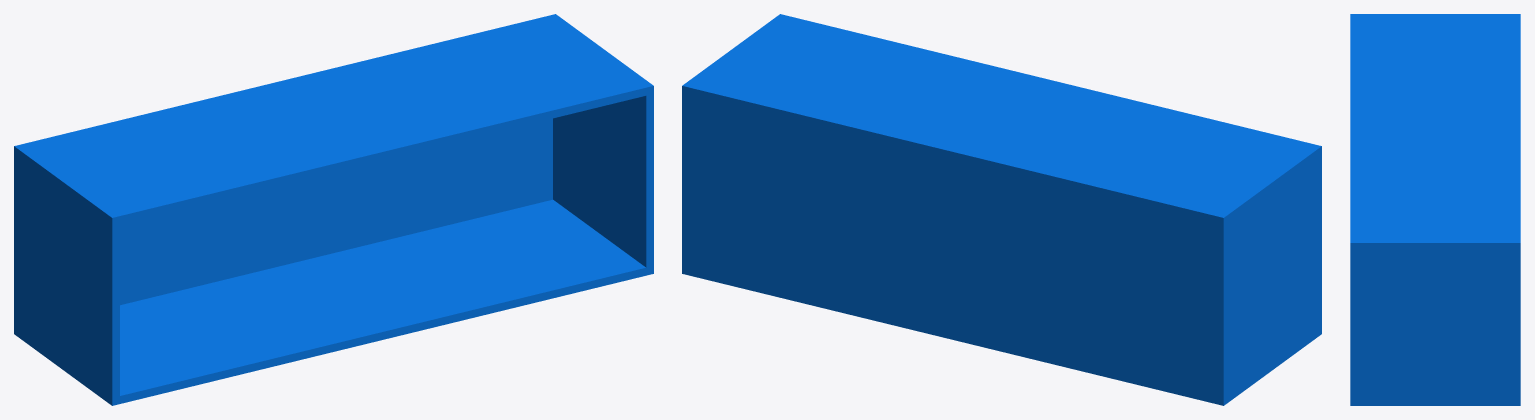
Rendered from selectedBookshelf.glb.
3 renders of one model, left to right at view 1: azimuth 30°, elevation 25°; view 2: azimuth 150°, elevation 25°; view 3: azimuth 270°, elevation 25°, orthographic. The views are drawn at different scales.
Parts seen in each view (by area): view 1: Cube; view 2: Cube; view 3: Cube.
Part boxes in pixels (x1=…): Cube: x1=14, y1=14, x2=653, y2=405; Cube: x1=682, y1=14, x2=1321, y2=405; Cube: x1=1350, y1=14, x2=1520, y2=405.
Size of the model in its own units: 2 by 0.6633 by 0.6275.
